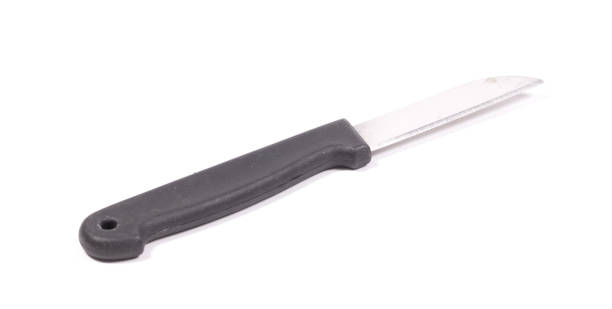knife: (76, 72, 548, 265)
